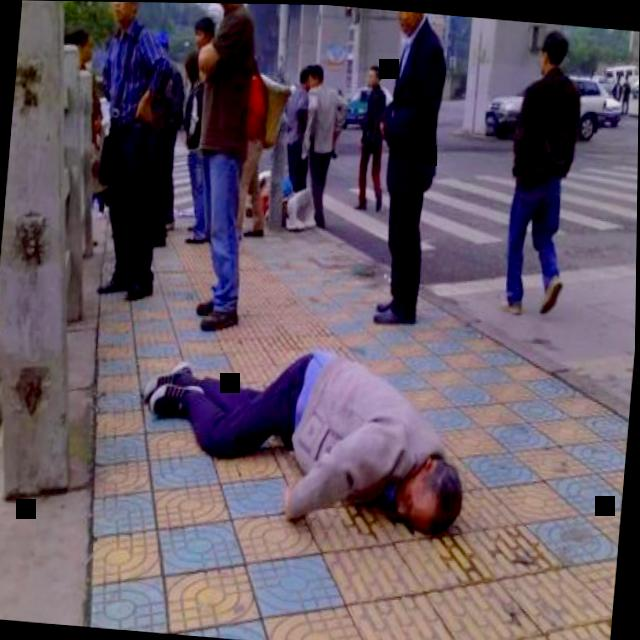Fall-Detected: (133, 310, 485, 556)
